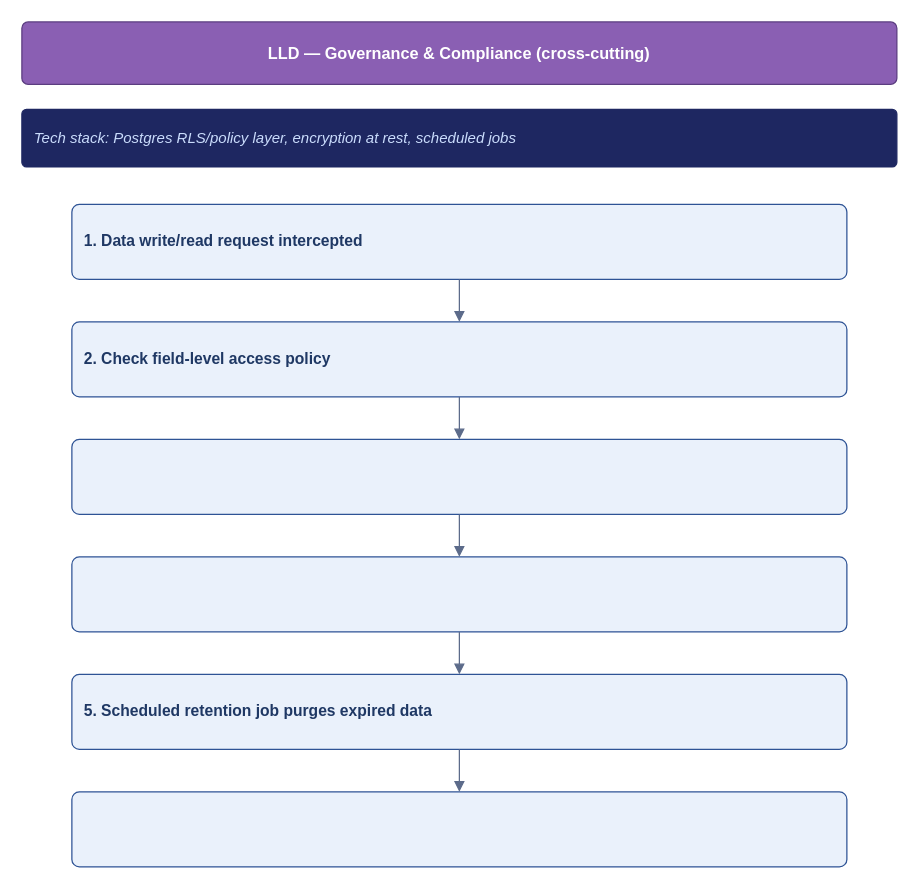
Image size: 919x889. Some labels were removed from this diagram. Here are the shapes that lost their labels. From the top down, the centre of each, then its label:
At point 459,476: "3. Apply PII masking/redaction where required".
At point 459,594: "4. Enforce data residency (region routing)".
At point 459,829: "6. Audit trail entry recorded".
